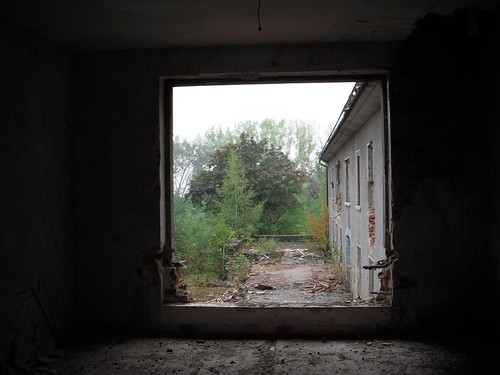building: (312, 98, 393, 297)
vegetation: (168, 124, 318, 280)
window: (162, 85, 396, 310)
